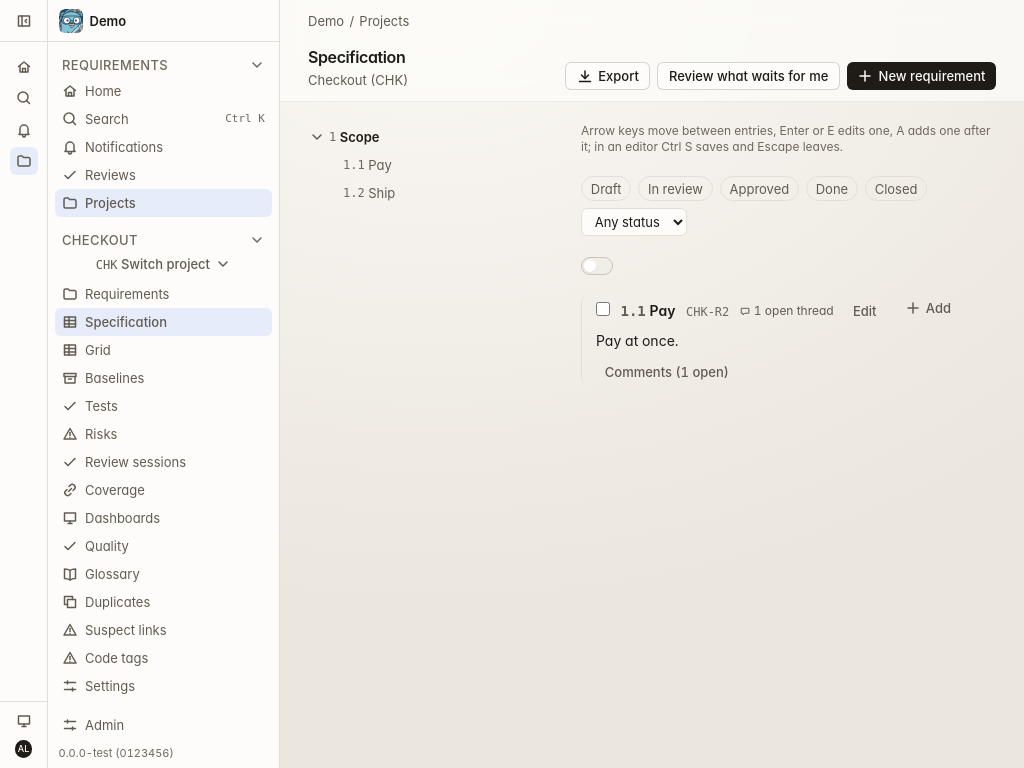
reviews in the document › opens an entry's comments inside it
Expected: the heading "1.1 Pay" is shown, [620,300,676,322]
Click the button "Comments (1 open)": (667, 372) [596,359,738,384]
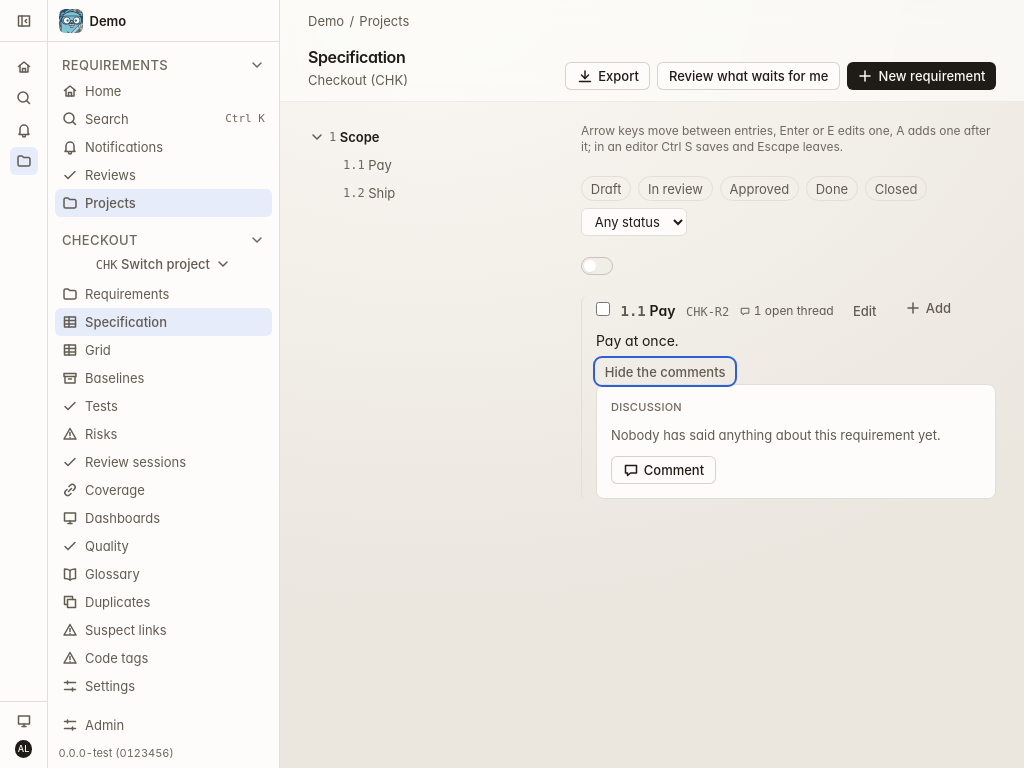
Result: the button "Hide the comments" is expanded at [596,359,734,384]
Result: the text "Nobody has said anything about this requirement yet." is shown at [611,425,981,445]
